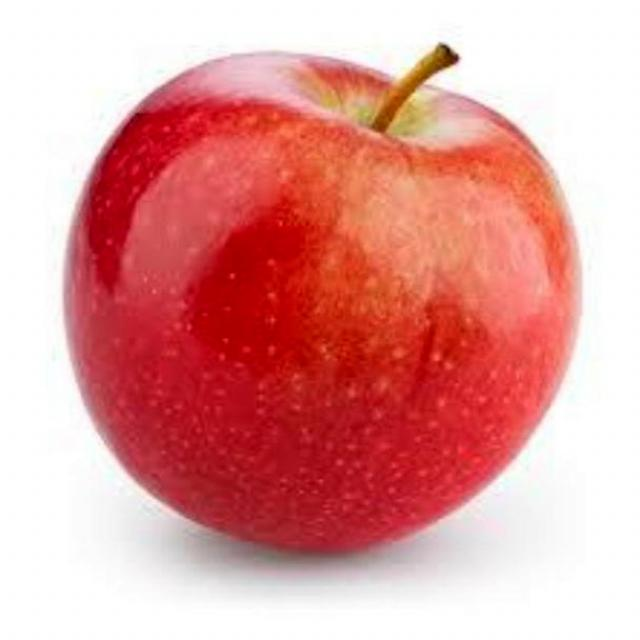HEALTHY: (40, 31, 579, 564)
